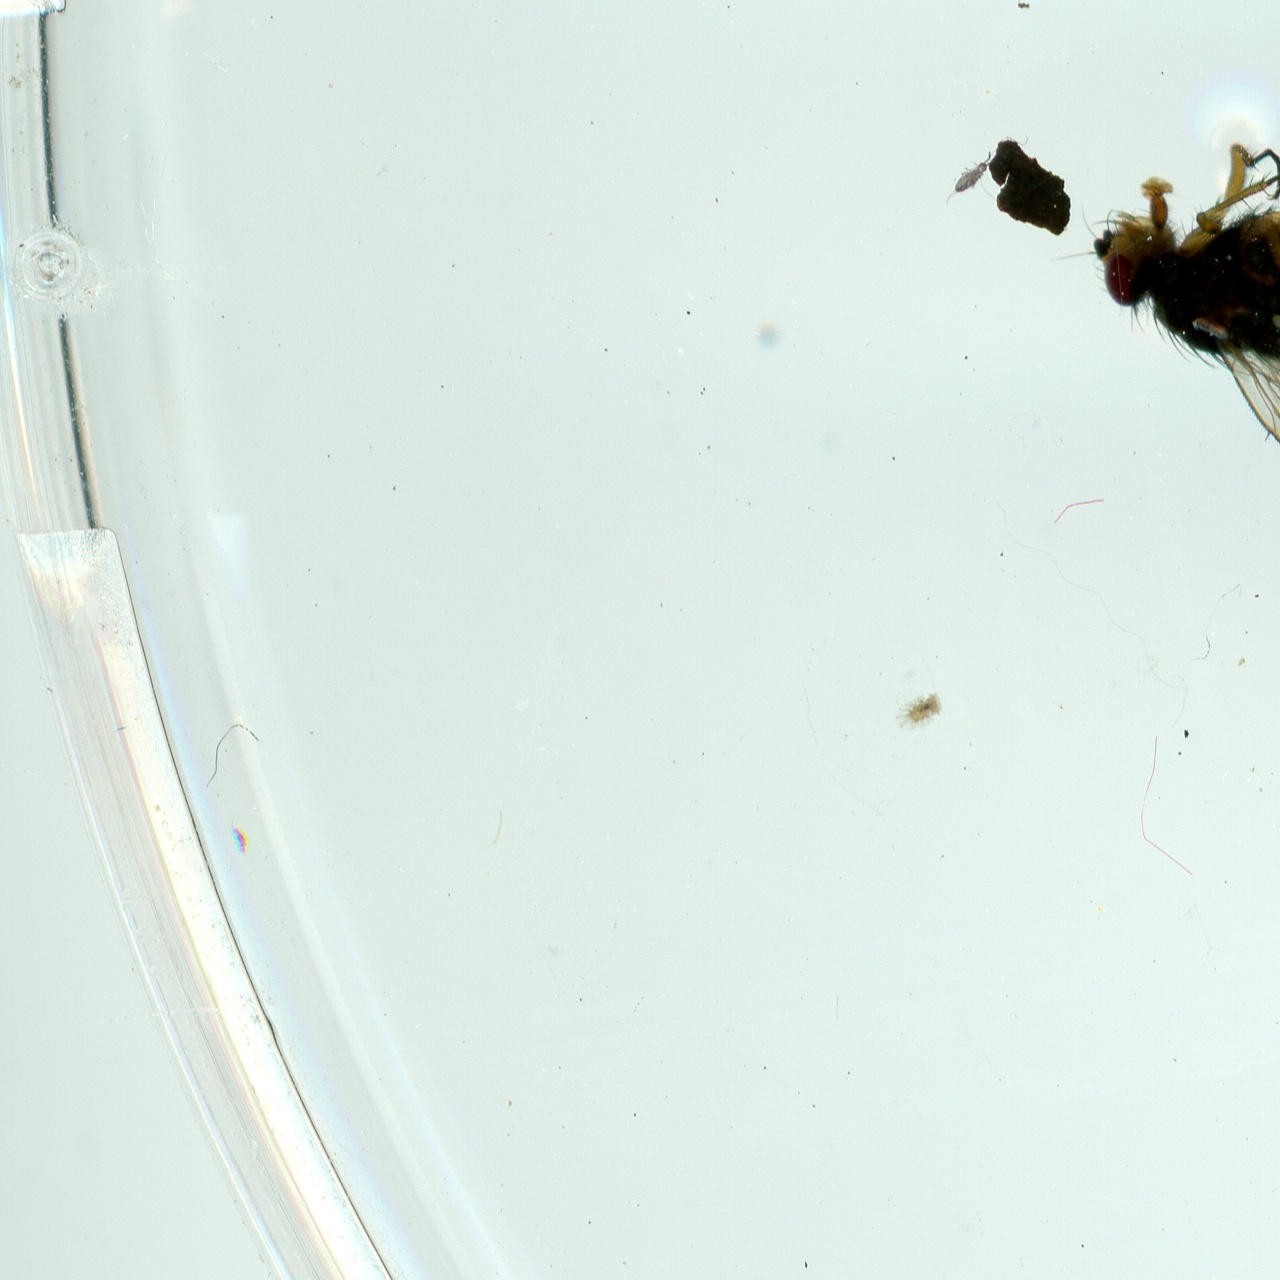arthropod: (1048, 69, 1280, 574), (933, 136, 1007, 223), (893, 689, 947, 733)
